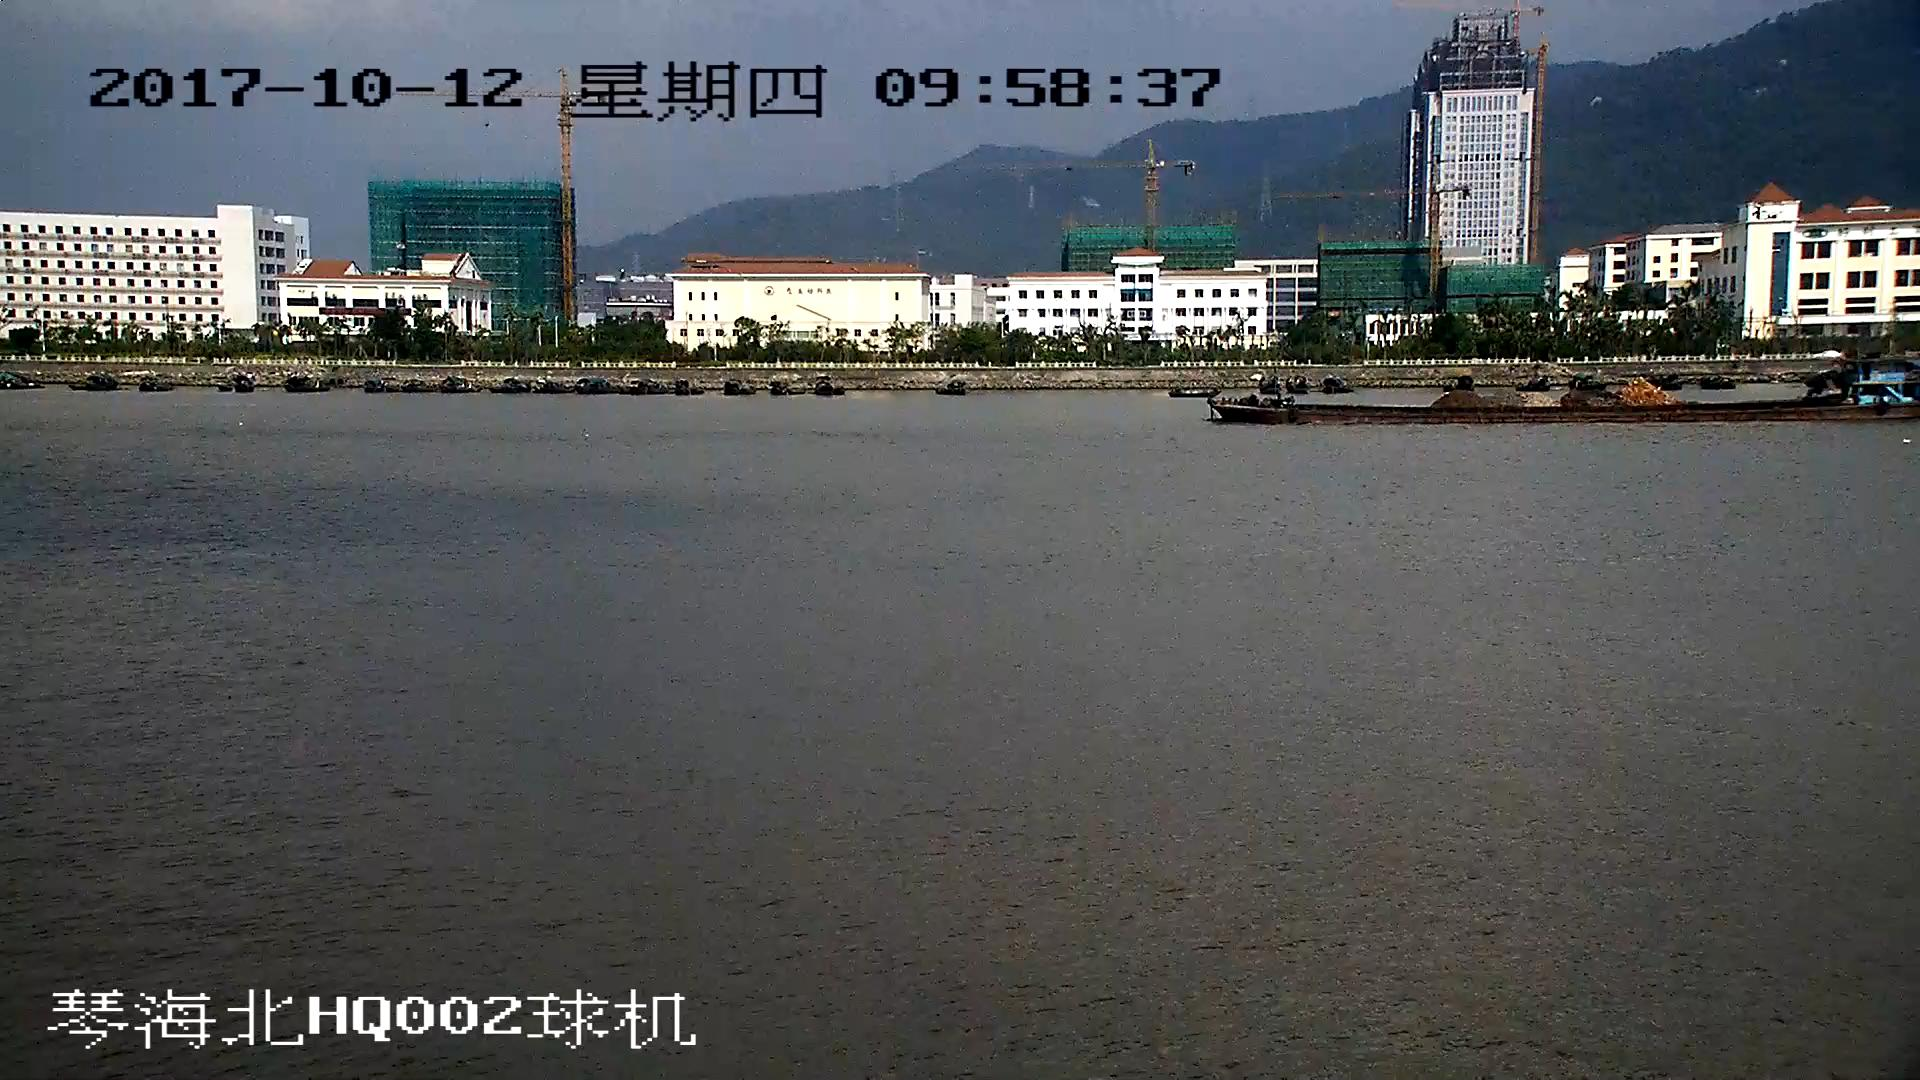ore carrier: (1210, 364, 1920, 424)
